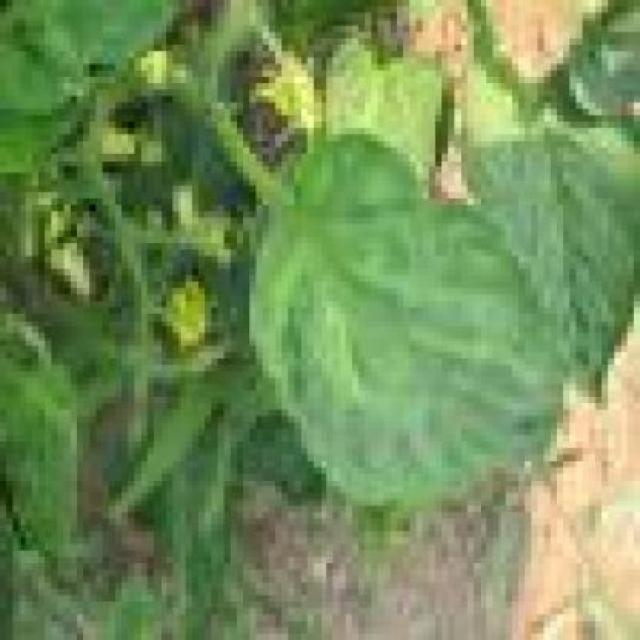Healthy Leaf: (237, 134, 563, 518), (435, 38, 634, 397), (0, 365, 103, 583)
